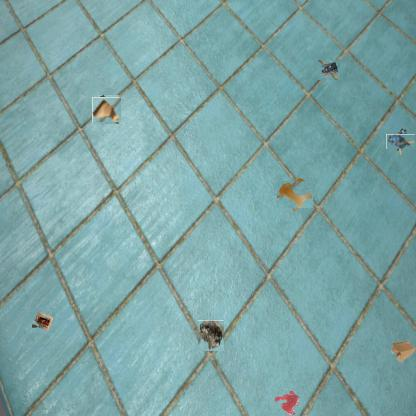dirty: (198, 320, 224, 351), (93, 96, 120, 123), (30, 309, 54, 333), (391, 340, 415, 362), (390, 131, 412, 152), (318, 60, 340, 80)
liquid: (280, 178, 312, 210), (276, 392, 298, 414)
